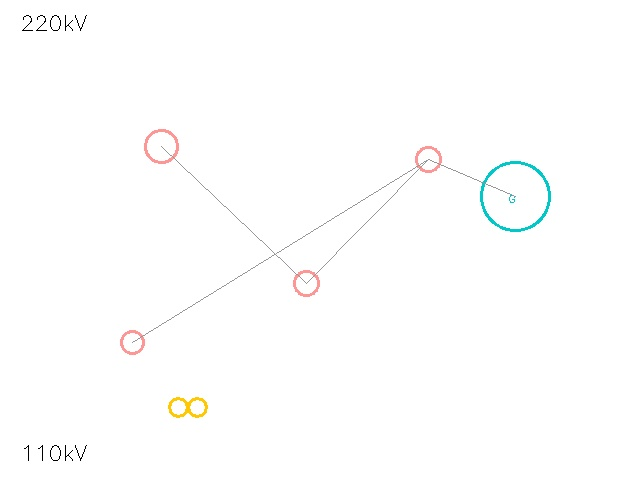current_transformer: (282, 259, 330, 307)
feeder_terminal: (128, 113, 194, 179)
generator: (481, 162, 549, 230)
load_break_switch: (404, 135, 452, 183)
transformer_2w: (164, 383, 212, 431)
voltage_transformer: (110, 320, 154, 364)
